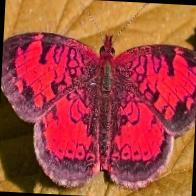butterfly: (1, 32, 196, 188)
